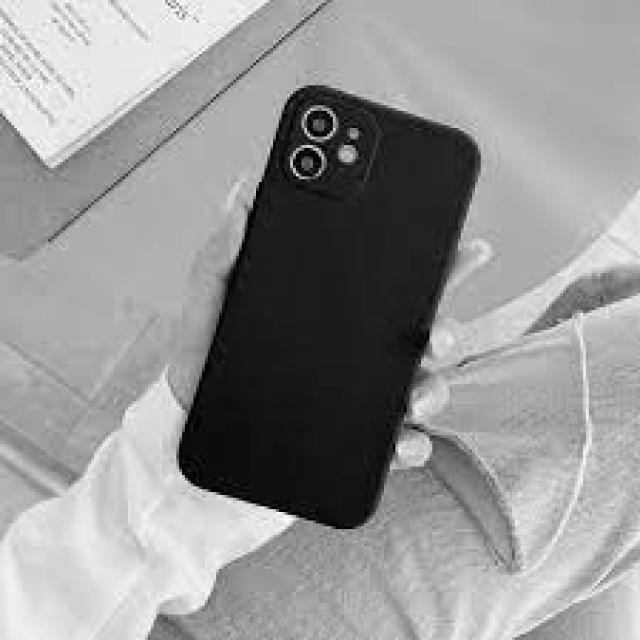No gun_phone: (180, 85, 482, 528)
